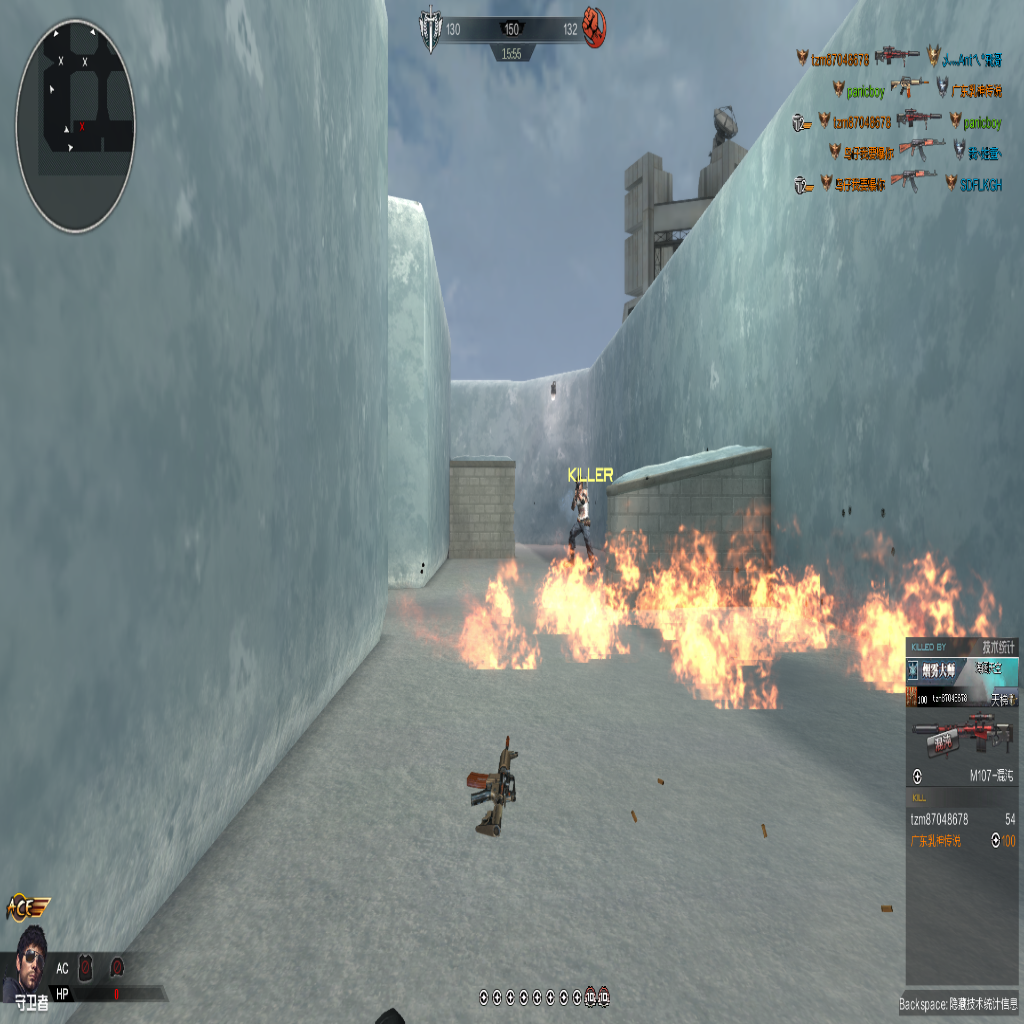tt: (567, 474, 597, 561)
